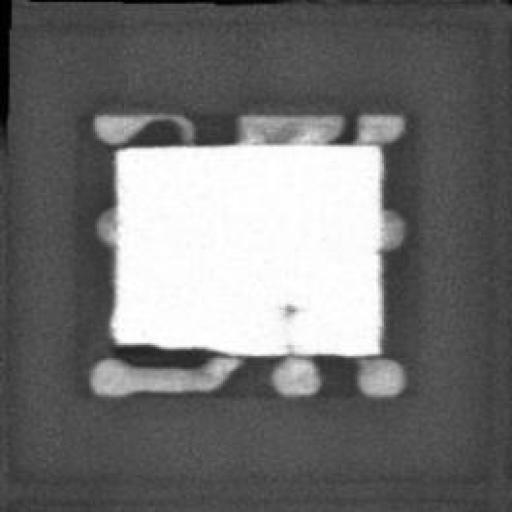DIE_INK: (279, 299, 295, 317)
